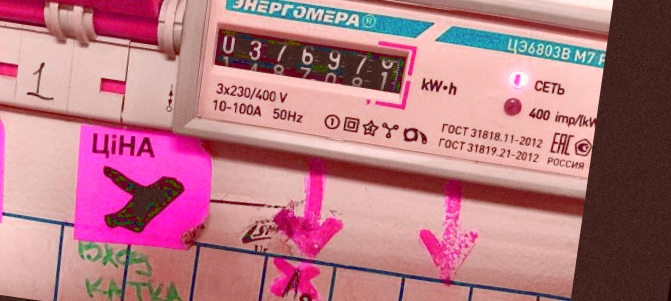0: (219, 31, 237, 55)
1: (376, 69, 388, 92)
3: (246, 38, 262, 61)
6: (298, 42, 316, 66)
7: (272, 39, 289, 64), (352, 50, 369, 75)
9: (325, 47, 342, 71)
screen: (199, 12, 421, 114)
